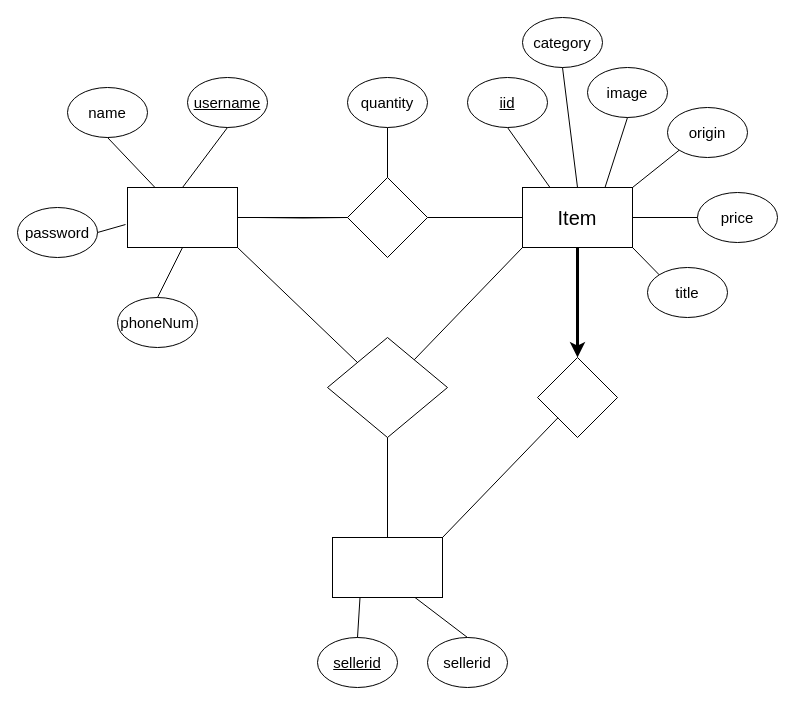
This 795x705 diagram has some shape labels left out. The centre of each missing label's shape, as x and y in pixels:
"Buyer" belongs at point (182, 217).
"Carts" belongs at point (387, 217).
"Purchases" belongs at point (387, 387).
"Seller" belongs at point (387, 567).
"Sells" belongs at point (577, 397).
